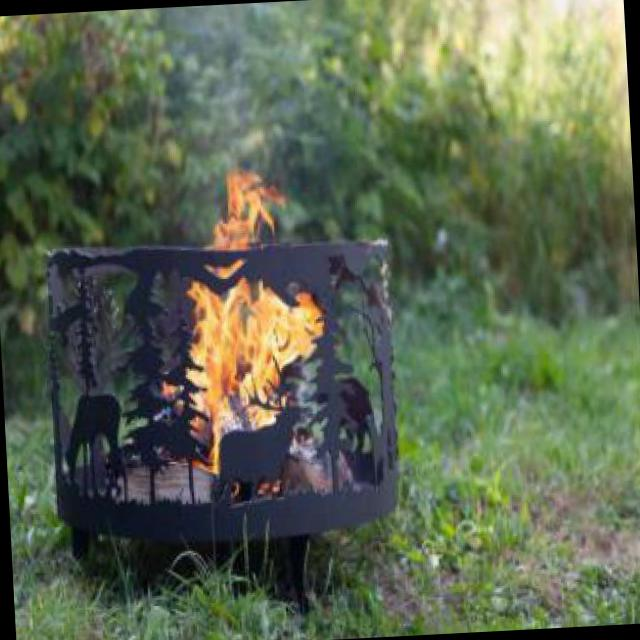fire: (170, 149, 330, 473)
